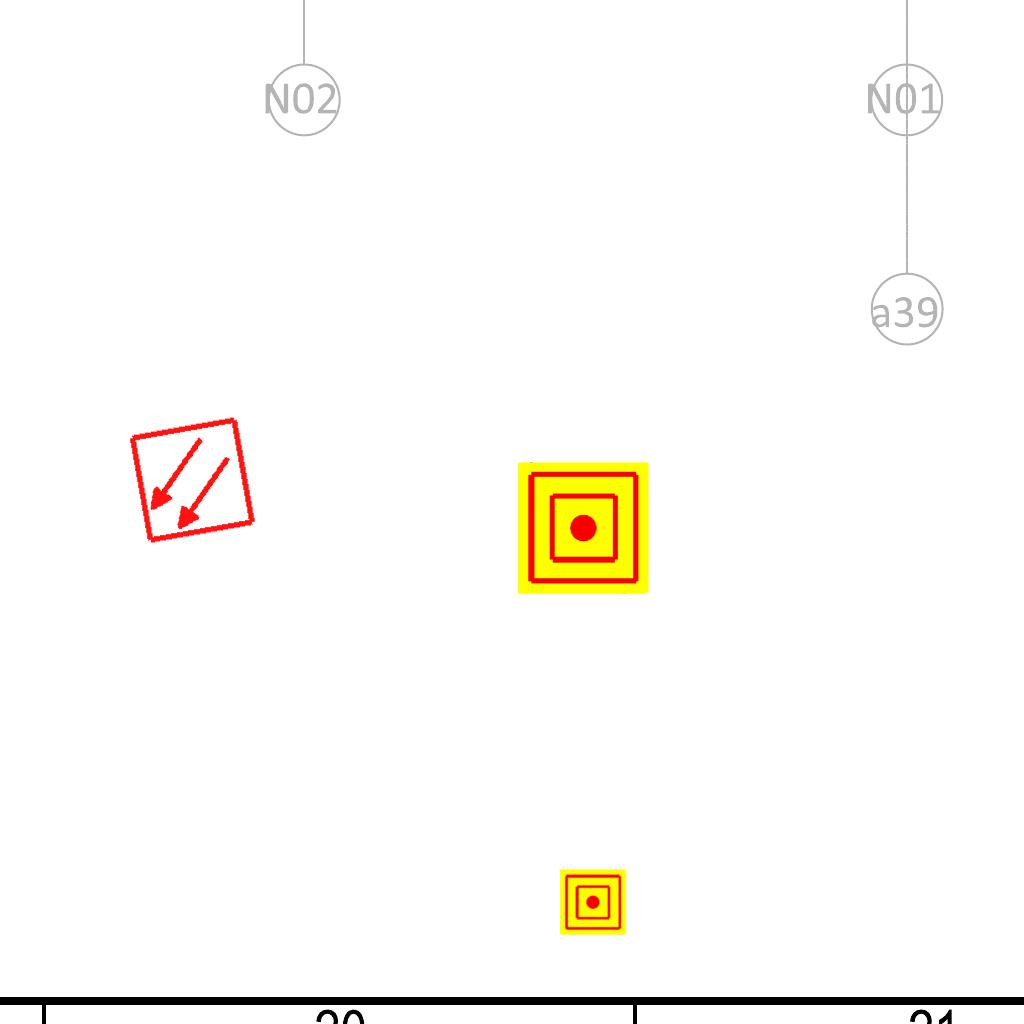NAM-Nichtautomatischer_Melder: (517, 462, 649, 594), (560, 869, 626, 935)
RMO_Rauchmelder_optischer: (127, 415, 258, 546)
